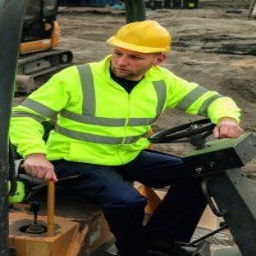helmet: (97, 21, 179, 57)
person: (19, 19, 189, 256)
vest: (35, 67, 179, 172)
